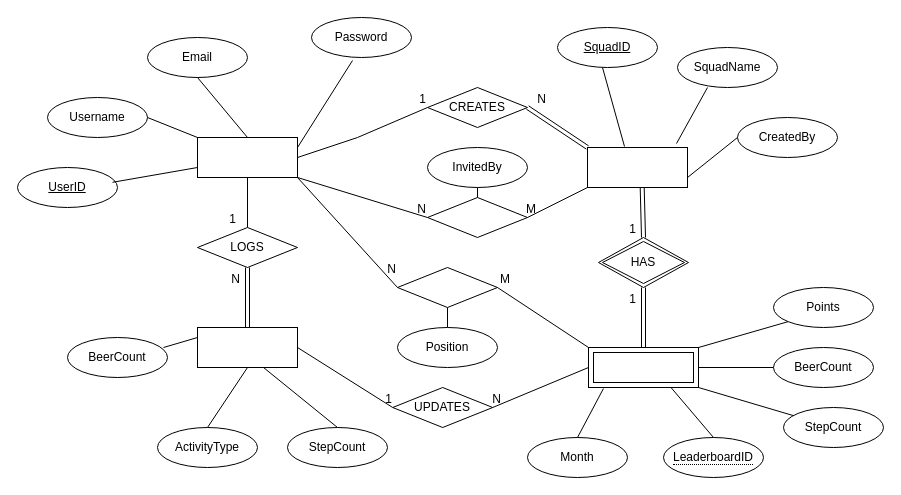
Some shapes in this 901 by 495 pixel diagram are drawn without their labels. The centre of each missing label's shape, as x and y in pixels:
"ACTIVITY" goes at [247,347].
"INVITED_TO" goes at [477,217].
"LEADERBOARD" goes at [643,367].
"LISTED_IN" goes at [447,287].
"SQUAD" goes at [637,167].
"USER" goes at [247,157].
